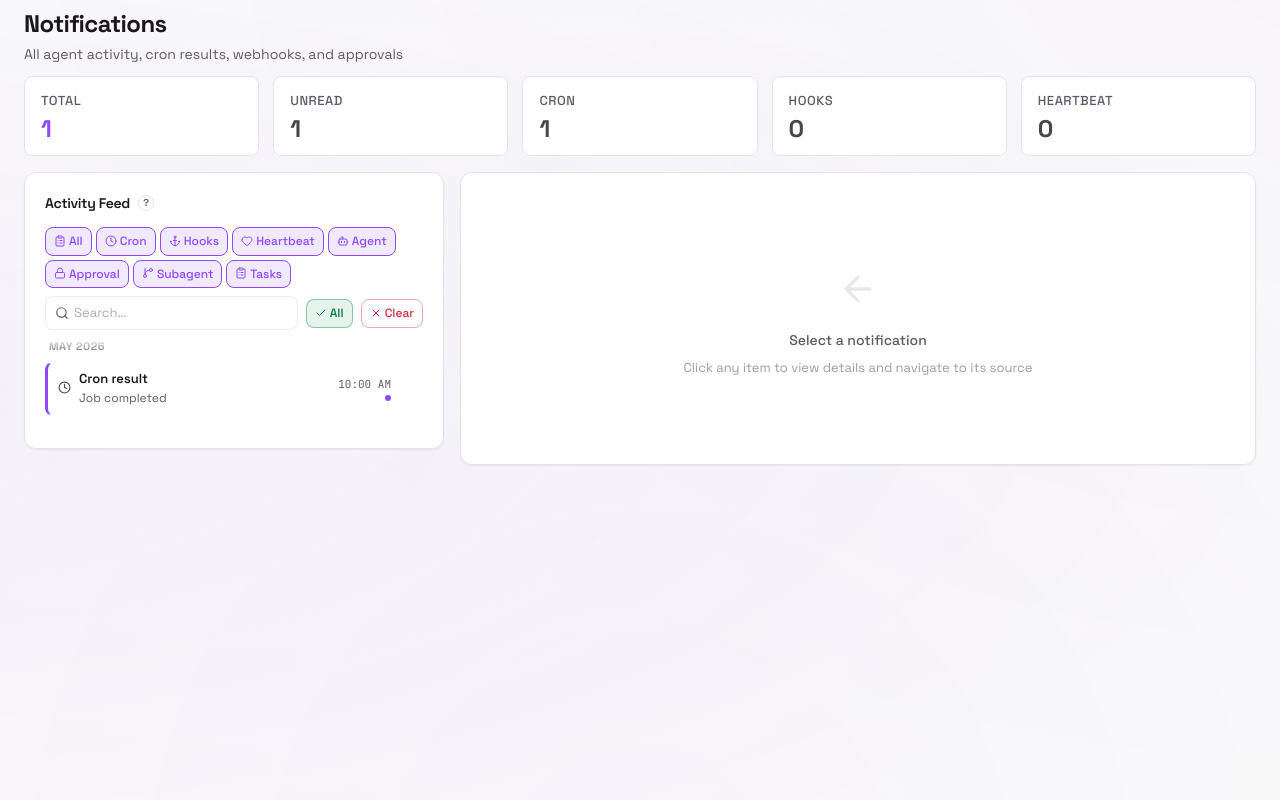
Test: Cron Notification Buttons › renders "Continue session" when slot is present
// Click the notification to open detail panel
Click the text "Cron result" at (114, 378), box [79,370,148,386]
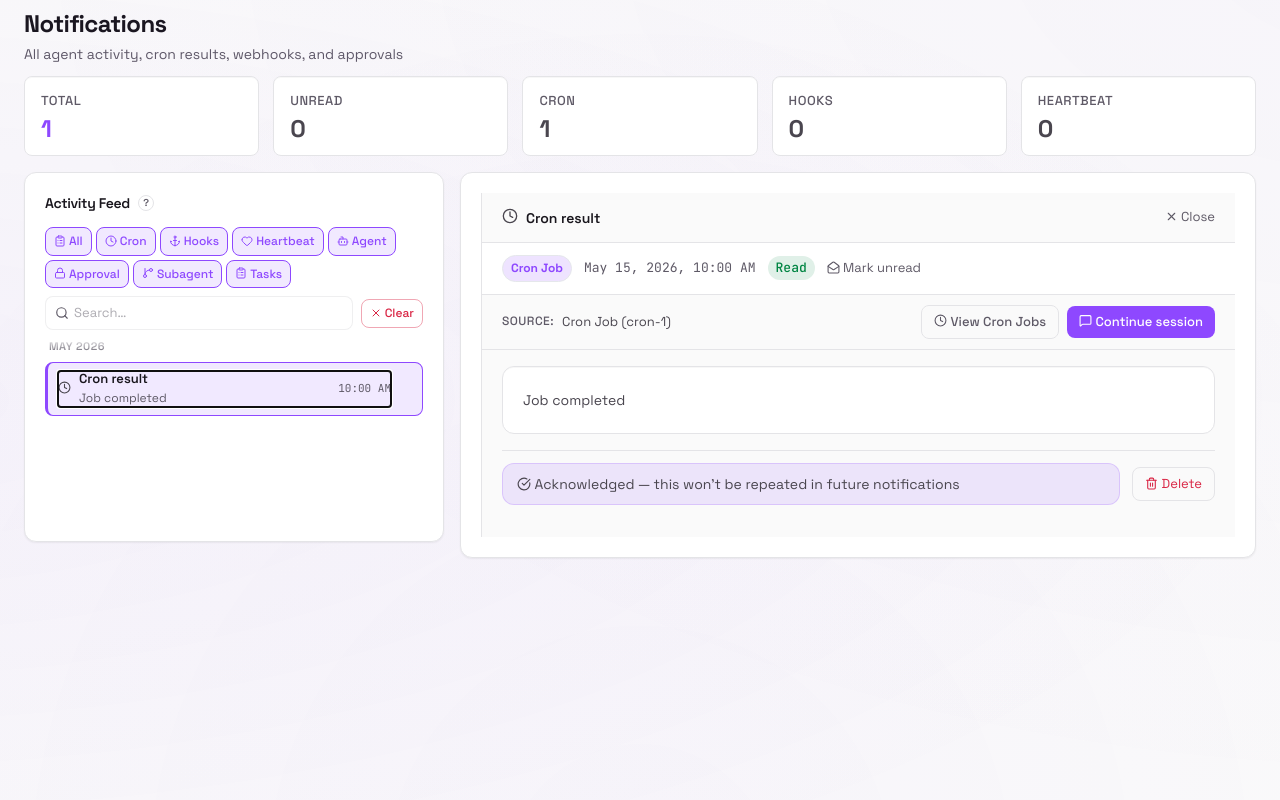
Expected: the button "Continue session" is shown, [1067,306,1215,338]
